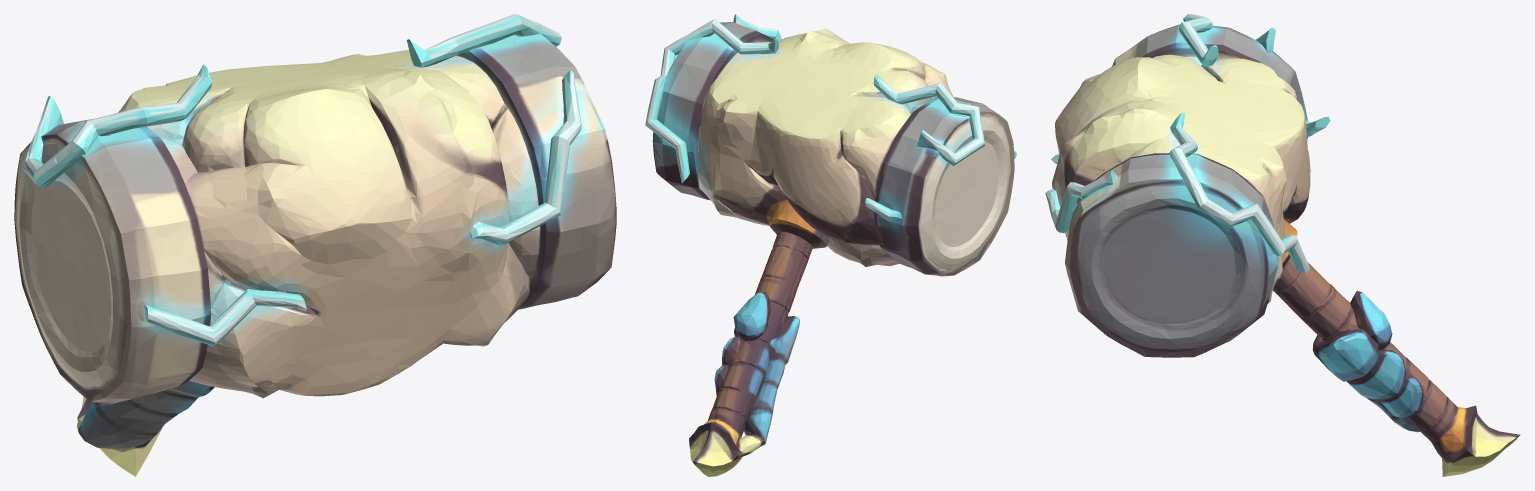
File: vasara.glb
3 views of the same model, side by side, from view 1: azimuth 30°, elevation 25°; view 2: azimuth 150°, elevation 25°; view 3: azimuth 270°, elevation 25° (orthographic). The views are drawn at different scales.
Visible parts, largest first — view 1: tripo_node_a427c491-85ec-4e92-b420-378392118197; view 2: tripo_node_a427c491-85ec-4e92-b420-378392118197; view 3: tripo_node_a427c491-85ec-4e92-b420-378392118197.
Boxes of the visible parts, left/top/right/bottom form: tripo_node_a427c491-85ec-4e92-b420-378392118197: left=14, top=14, right=616, bottom=476; tripo_node_a427c491-85ec-4e92-b420-378392118197: left=645, top=14, right=1016, bottom=476; tripo_node_a427c491-85ec-4e92-b420-378392118197: left=1045, top=14, right=1520, bottom=476.
Bounding box in the file's own units: 0.9255 × 0.9305 × 1.
1 material, 1 textured.
